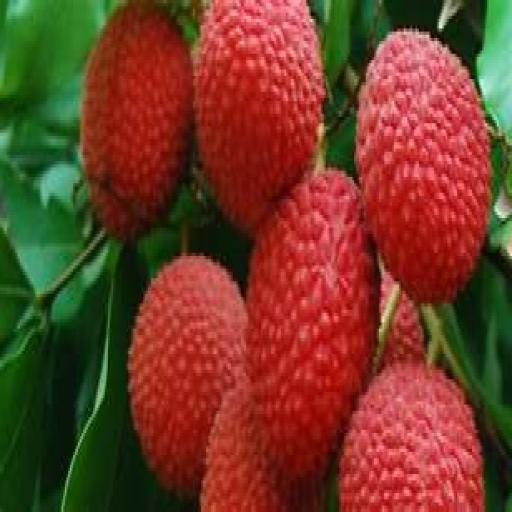lychee: (247, 171, 378, 480), (355, 32, 489, 303), (194, 0, 323, 233), (128, 256, 245, 493), (81, 0, 191, 240), (339, 364, 482, 511), (201, 377, 321, 511), (380, 294, 424, 366)
